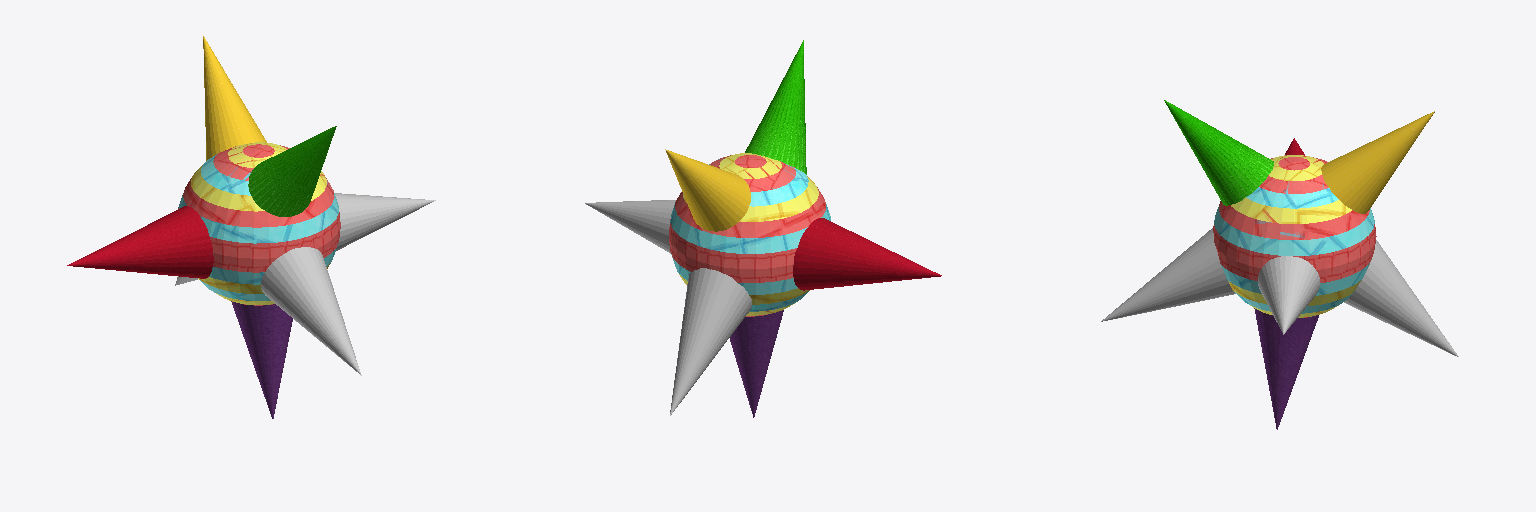
The picture shows the model from 3 angles: view 1: azimuth 30°, elevation 25°; view 2: azimuth 150°, elevation 25°; view 3: azimuth 270°, elevation 25°; orthographic projection.
Visible parts, largest first — view 1: Sphere, Cone.004, Cone.005, Cone.001, Cone.002, Cone.003, Cone.006; view 2: Sphere, Cone.004, Cone, Cone.002, Cone.001, Cone.003, Cone.006; view 3: Sphere, Cone.005, Cone.002, Cone.001, Cone, Cone.003, Cone.006.
Boxes of the visible parts, box(x1,y1,x2,y2) form: Sphere: box(178, 142, 340, 305); Cone.004: box(67, 206, 213, 278); Cone.005: box(261, 247, 361, 375); Cone.001: box(248, 126, 336, 216); Cone.002: box(203, 36, 266, 160); Cone.003: box(231, 301, 292, 418); Cone.006: box(335, 193, 435, 250); Sphere: box(669, 153, 830, 316); Cone.004: box(793, 218, 941, 290); Cone: box(670, 268, 751, 415); Cone.002: box(665, 149, 750, 231); Cone.001: box(745, 40, 806, 174); Cone.003: box(730, 310, 783, 417); Cone.006: box(585, 200, 675, 253); Sphere: box(1213, 155, 1376, 317); Cone.005: box(1101, 228, 1235, 321); Cone.002: box(1321, 111, 1434, 213); Cone.001: box(1164, 100, 1273, 205); Cone: box(1344, 240, 1458, 356); Cone.003: box(1254, 308, 1318, 429); Cone.006: box(1258, 256, 1319, 334).
Size of the model in its own units: 5.13 by 4.51 by 4.38.
8 materials, 5 textured.